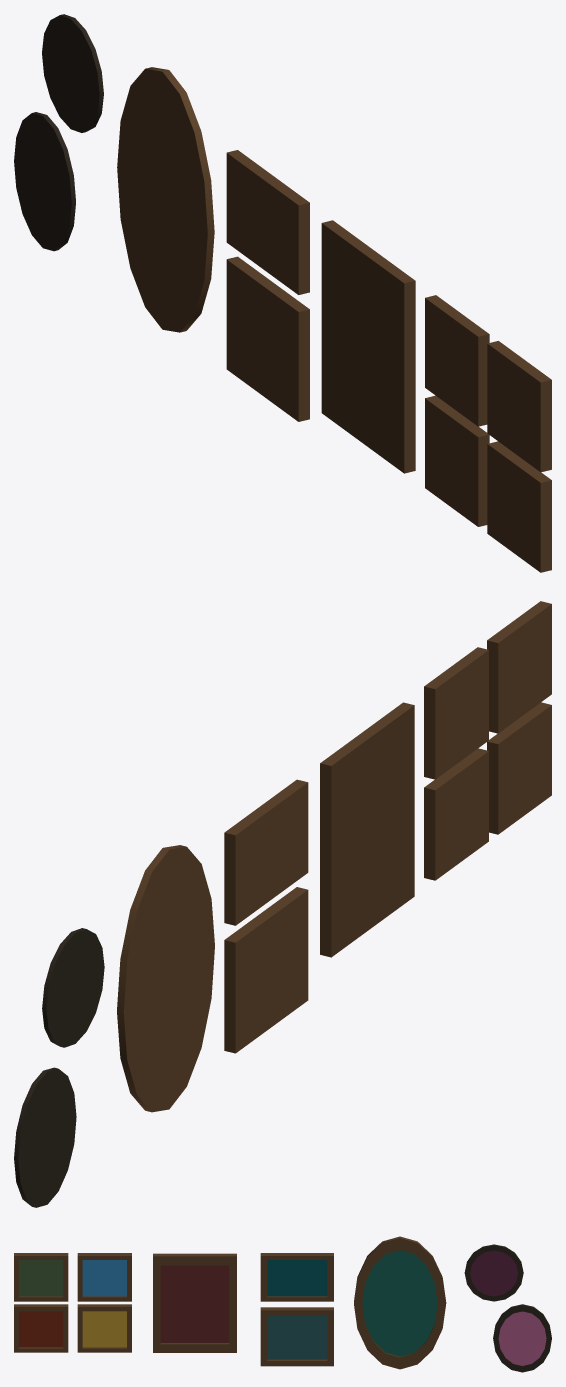
File: Paintings.fbx
3 views of the same model, one above another, from view 1: azimuth 30°, elevation 25°; view 2: azimuth 150°, elevation 25°; view 3: azimuth 270°, elevation 25° (orthographic). The views are drawn at different scales.
Visible parts, largest first — view 1: pCylinder2, pCube1, pCube2, pCube3, pCylinder3, pCube4, pCube7, pCube5, pCube6, pCylinder1; view 2: pCylinder2, pCube1, pCube2, pCube3, pCylinder3, pCube5, pCube6, pCube4, pCube7, pCylinder1; view 3: pCylinder2, pCube1, pCube2, pCube3, pCylinder3, pCube4, pCube5, pCube6, pCube7, pCylinder1.
Part boxes in pixels (box(x1,y1,x2,y2)): pCylinder2: box(117, 67, 214, 332); pCube1: box(321, 220, 415, 473); pCube2: box(226, 256, 309, 421); pCube3: box(226, 150, 309, 294); pCylinder3: box(14, 112, 75, 251); pCube4: box(487, 341, 551, 472); pCube7: box(487, 441, 551, 572); pCube5: box(425, 295, 489, 426); pCube6: box(425, 395, 489, 526); pCylinder1: box(42, 14, 103, 132); pCylinder2: box(117, 845, 214, 1112); pCube1: box(320, 702, 414, 957); pCube2: box(224, 887, 308, 1053); pCube3: box(224, 779, 308, 925); pCylinder3: box(14, 1067, 76, 1207); pCube5: box(424, 647, 488, 779); pCube6: box(424, 748, 488, 880); pCube4: box(487, 601, 551, 733); pCube7: box(487, 702, 551, 834); pCylinder1: box(42, 928, 104, 1047); pCylinder2: box(354, 1236, 446, 1369); pCube1: box(153, 1253, 236, 1352); pCube2: box(260, 1307, 333, 1366); pCube3: box(260, 1253, 333, 1301); pCylinder3: box(493, 1304, 551, 1372); pCube4: box(14, 1253, 68, 1301); pCube5: box(77, 1253, 131, 1301); pCube6: box(77, 1304, 131, 1352); pCube7: box(14, 1304, 68, 1352); pCylinder1: box(464, 1244, 523, 1301).
Bounding box in the file's own units: 0.1432 × 3.22 × 11.65.
